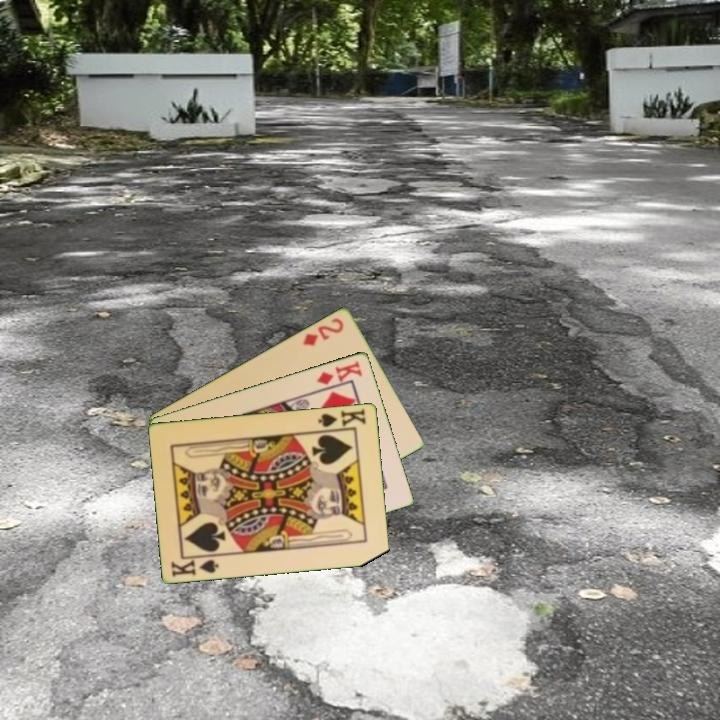2d: (299, 314, 347, 349)
Kd: (313, 357, 365, 387)
Ks: (315, 404, 369, 434), (168, 552, 223, 579)
